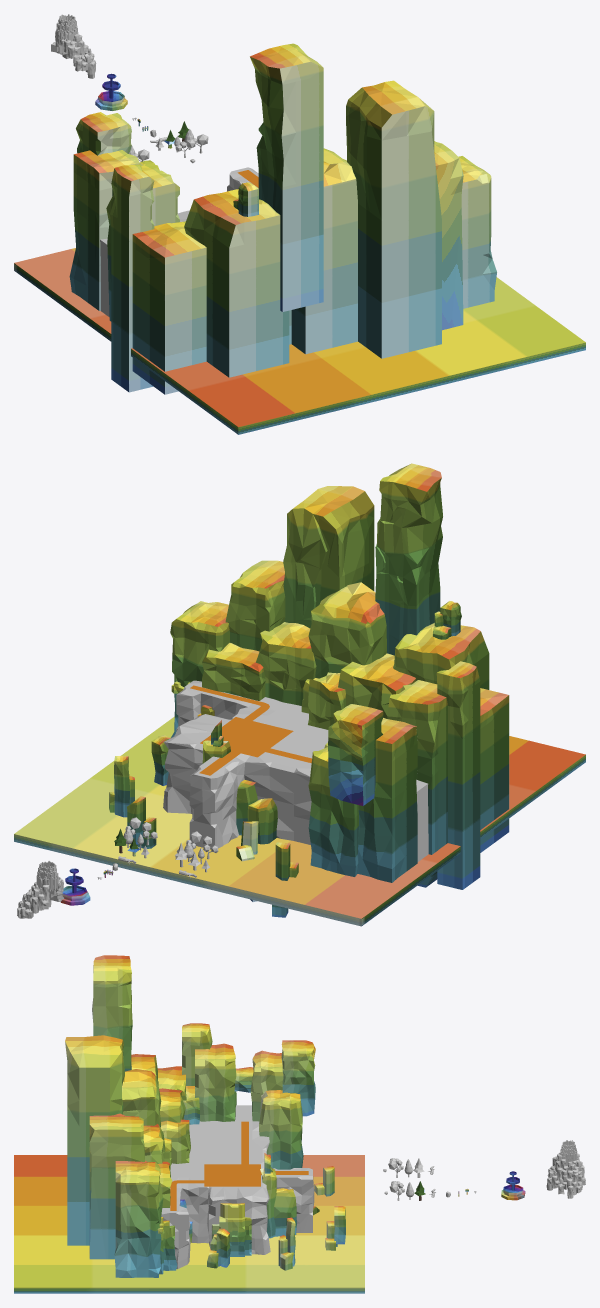
File: library.obj
The picture shows the model from 3 angles, top to bottom: view 1: azimuth 30°, elevation 25°; view 2: azimuth 150°, elevation 25°; view 3: azimuth 270°, elevation 25°; orthographic projection. The views are drawn at different scales.
Parts seen in each view (by area): view 1: Falaise-Haute, Water, Sol, Fontaine; view 2: Falaise-Haute, Water, Sol, Falaise-Basse, chemin, Fontaine; view 3: Falaise-Haute, Water, Sol, Falaise-Basse, chemin, Fontaine.
Part boxes in pixels (bbox=[...]): Falaise-Haute: bbox=[69, 43, 496, 394]; Water: bbox=[14, 248, 585, 434]; Sol: bbox=[100, 167, 258, 317]; Fontaine: bbox=[95, 73, 127, 110]; Falaise-Haute: bbox=[170, 463, 509, 889]; Water: bbox=[14, 716, 585, 926]; Sol: bbox=[163, 680, 428, 861]; Falaise-Basse: bbox=[109, 681, 298, 917]; chemin: bbox=[190, 685, 311, 775]; Fontaine: bbox=[60, 868, 90, 905]; Falaise-Haute: bbox=[65, 955, 315, 1277]; Water: bbox=[14, 1155, 364, 1293]; Sol: bbox=[161, 1105, 314, 1269]; Falaise-Basse: bbox=[157, 1153, 345, 1274]; chemin: bbox=[170, 1121, 308, 1210]; Fontaine: bbox=[501, 1171, 525, 1200].
Size of the model in its own units: 103 by 98.38 by 186.
